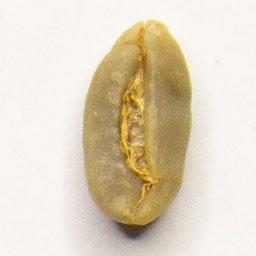longberry: (81, 15, 193, 229)
